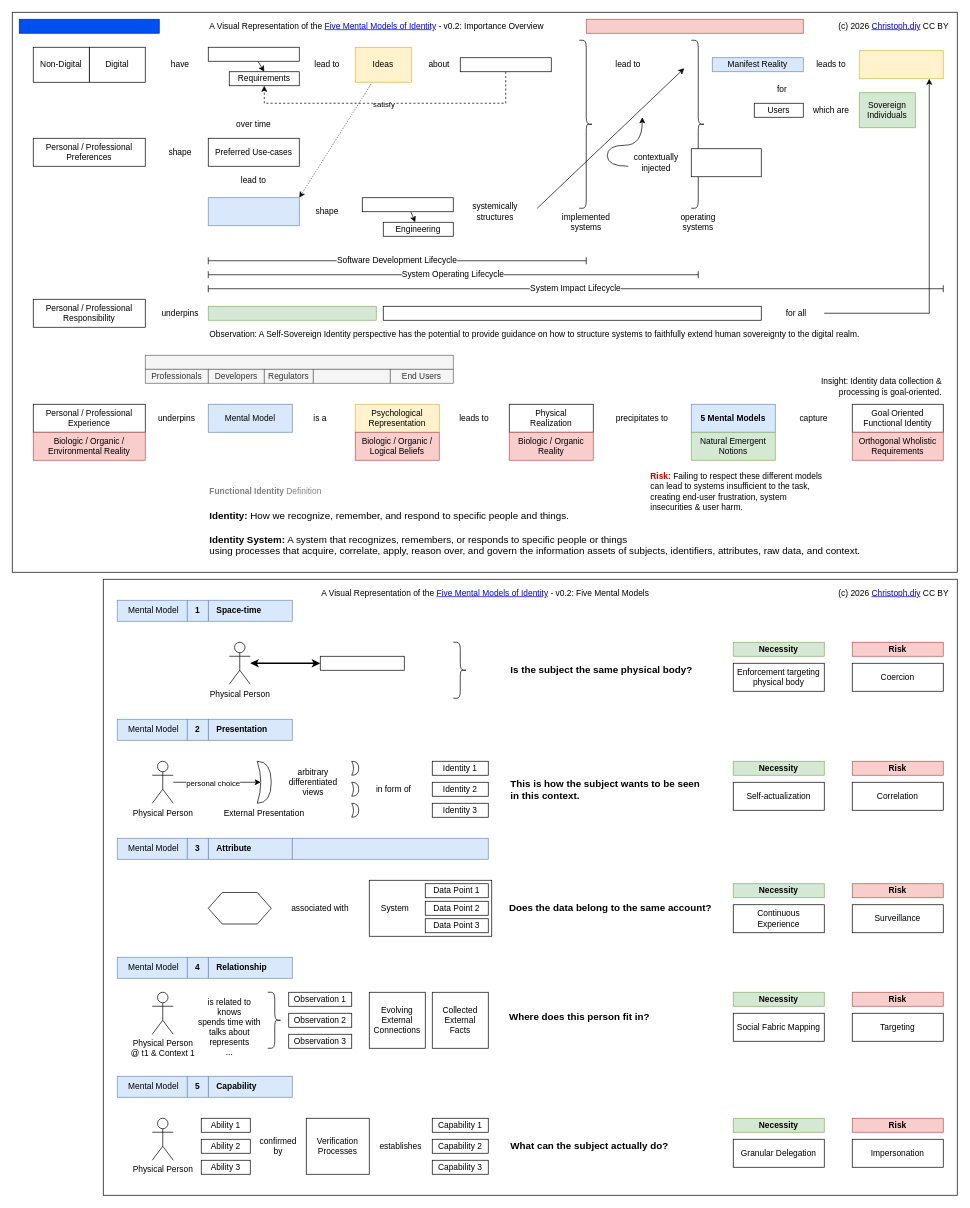
Some shapes in this 970 by 1208 pixel diagram are drawn without their labels. The centre of each missing label's shape, as x and y in pixels:
"Account Identity 1" goes at (239,908).
"Assumptions" goes at (253,54).
"Decision Makers" goes at (351,376).
"Design Principles" goes at (292,313).
"Discussions" goes at (407,204).
"Dynamic Structuring" goes at (726,162).
"Engineers of Identity Systems" goes at (89,26).
"ISO/IEC 24760-1 International Standard" goes at (390,848).
"Mental Models" goes at (253,211).
"Mental Models shape ease of discussion and structure outcomes" goes at (299,362).
"Natural Operational Reality" goes at (694,26).
"Online Activity 1" goes at (362,663).
"Outcomes" goes at (901,64).
"Root Causes" goes at (572,313).
"Useful Solutions" goes at (505,64).
